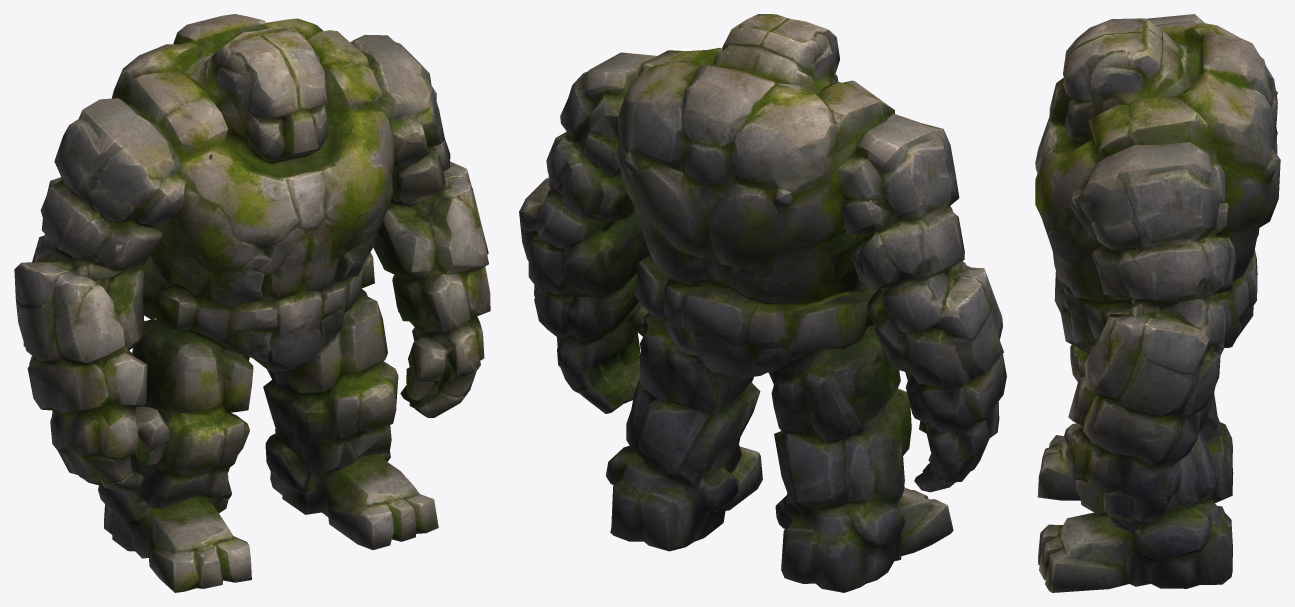
The model's file is golem.glb.
The picture shows the model from 3 angles, left to right: view 1: azimuth 30°, elevation 25°; view 2: azimuth 150°, elevation 25°; view 3: azimuth 270°, elevation 25°; orthographic projection. The views are drawn at different scales.
Parts seen in each view (by area): view 1: golem; view 2: golem; view 3: golem.
Part boxes in pixels (bbox=[...]): golem: bbox=[14, 14, 490, 592]; golem: bbox=[519, 14, 1006, 592]; golem: bbox=[1035, 14, 1280, 592].
Size of the model in its own units: 1.03 by 1.1 by 0.49.
Materials: 1 (1 with a texture image).
